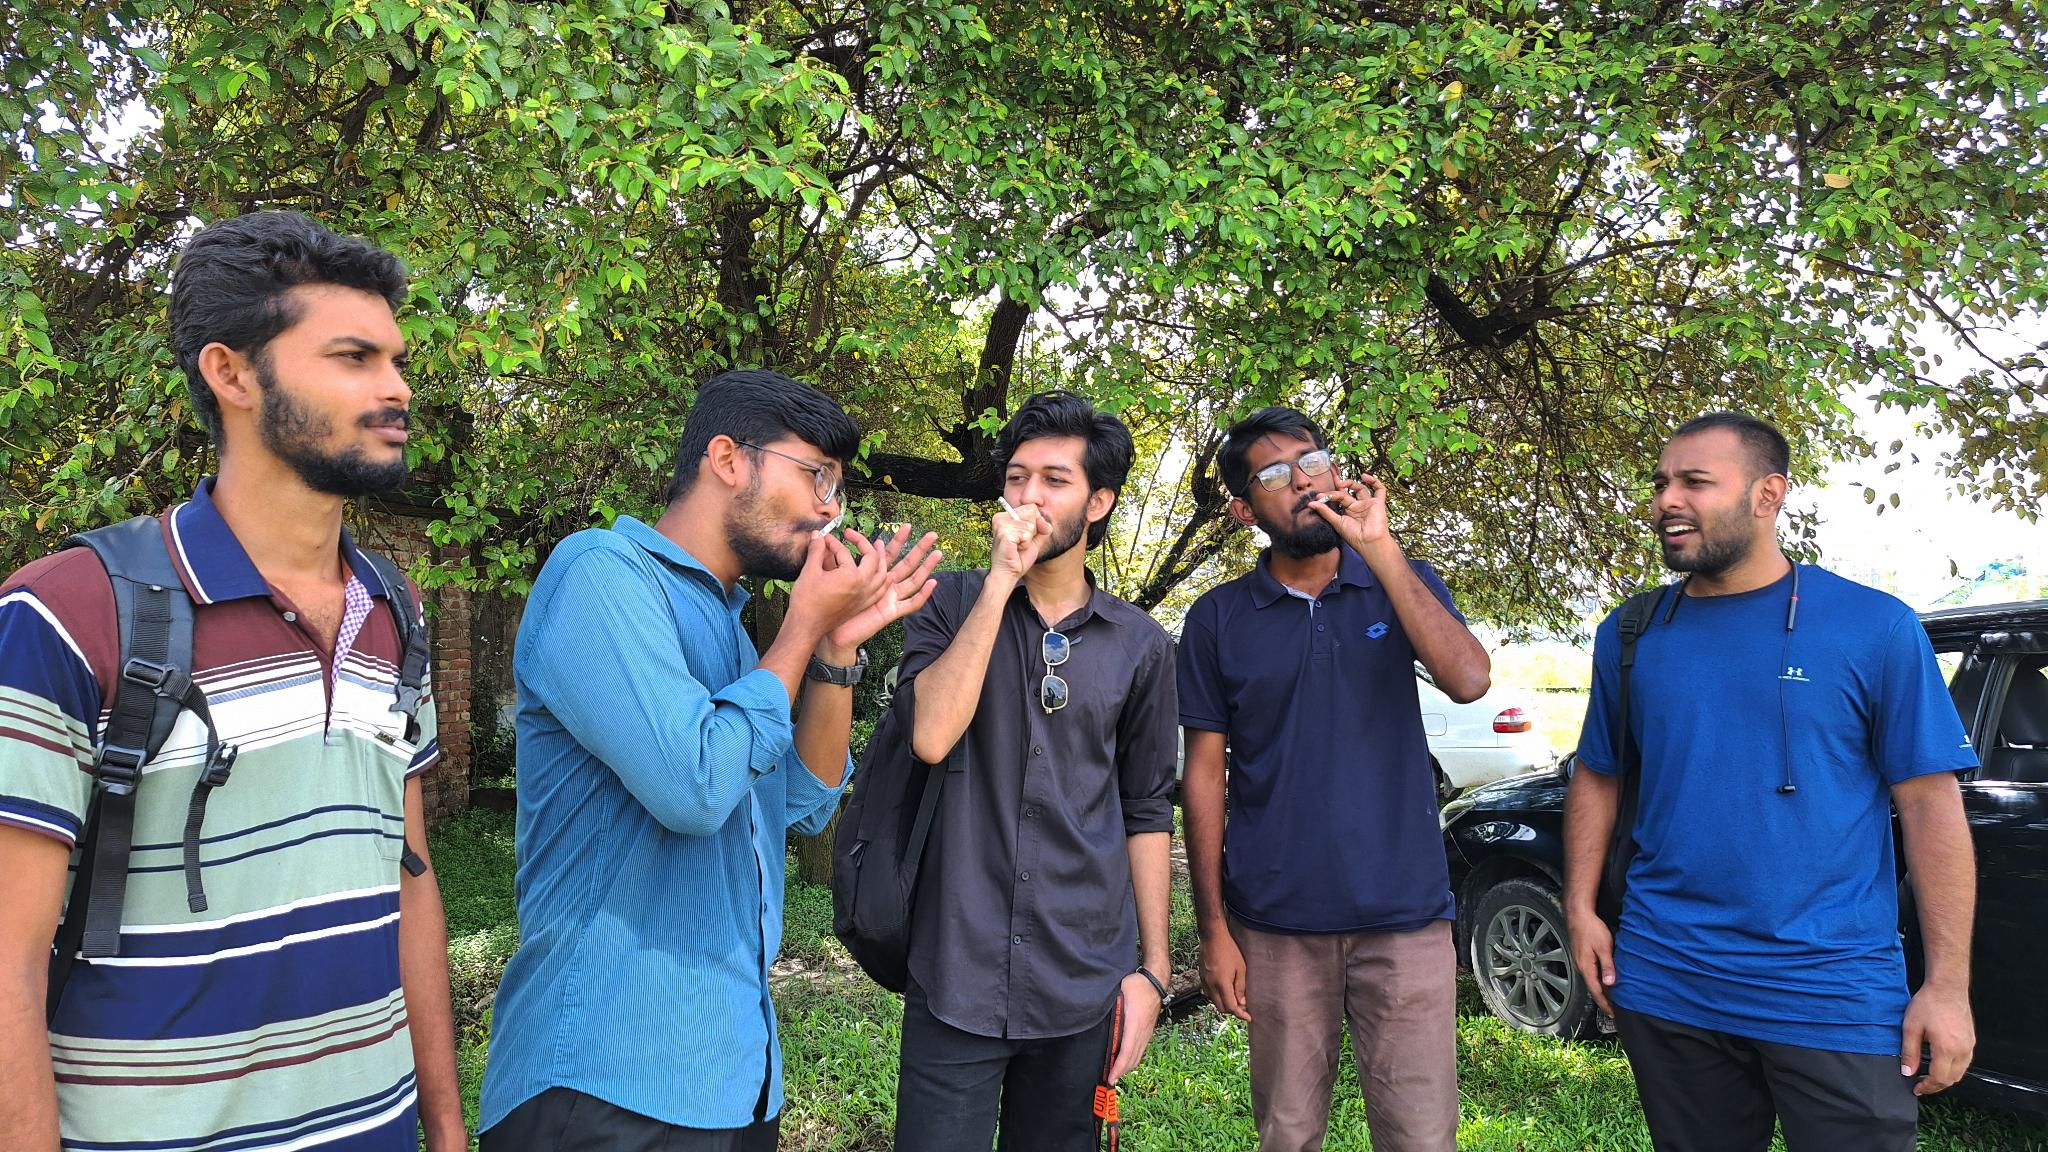cigarette: (994, 495, 1023, 525), (819, 512, 845, 540), (1315, 492, 1335, 505)
nonSmoker: (0, 208, 468, 1152), (1563, 411, 1978, 1152)
smoker: (482, 367, 941, 1152), (833, 388, 1179, 1152), (1176, 407, 1497, 1152)
